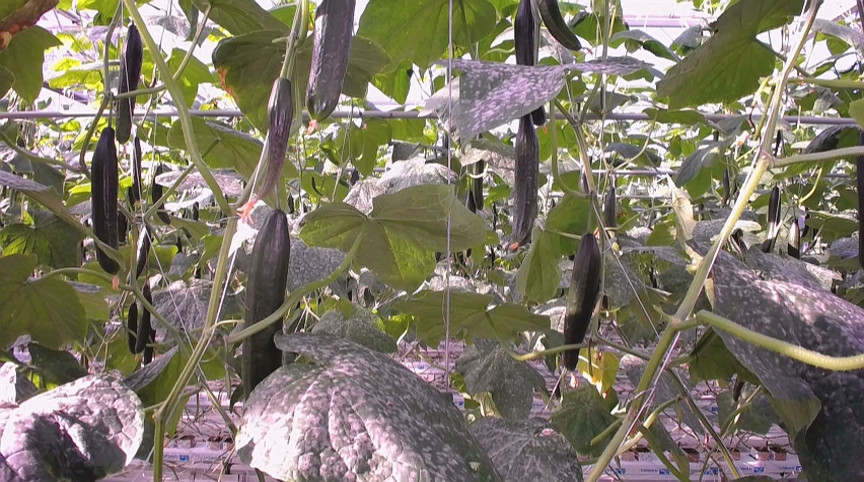cucumber: (244, 210, 292, 405), (307, 1, 358, 121), (565, 236, 602, 372), (257, 76, 296, 200), (92, 129, 121, 276), (511, 115, 541, 246), (516, 1, 547, 125), (116, 22, 143, 141), (538, 1, 582, 49), (135, 284, 152, 354), (470, 159, 484, 211), (789, 219, 802, 260)
